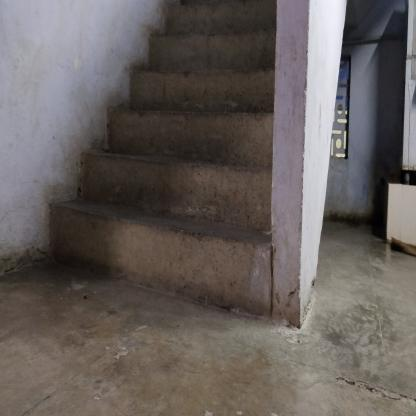stairs: (131, 49, 264, 326)
